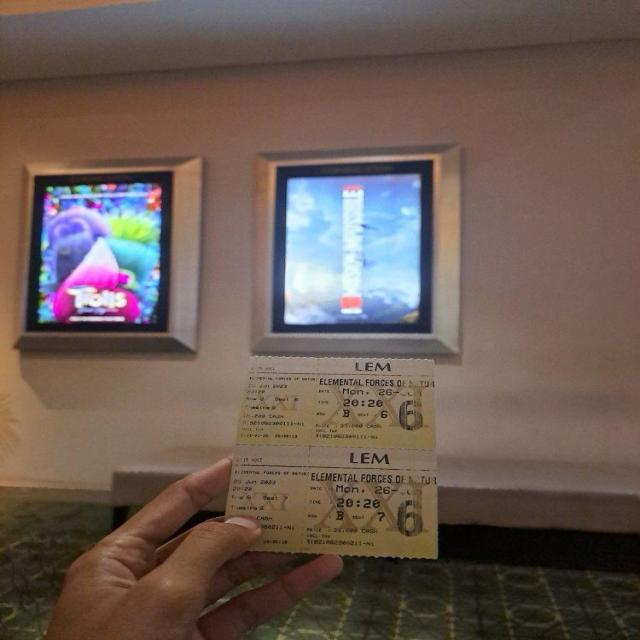date: (247, 380, 296, 394)
store: (352, 359, 402, 376)
total: (314, 419, 383, 430)
